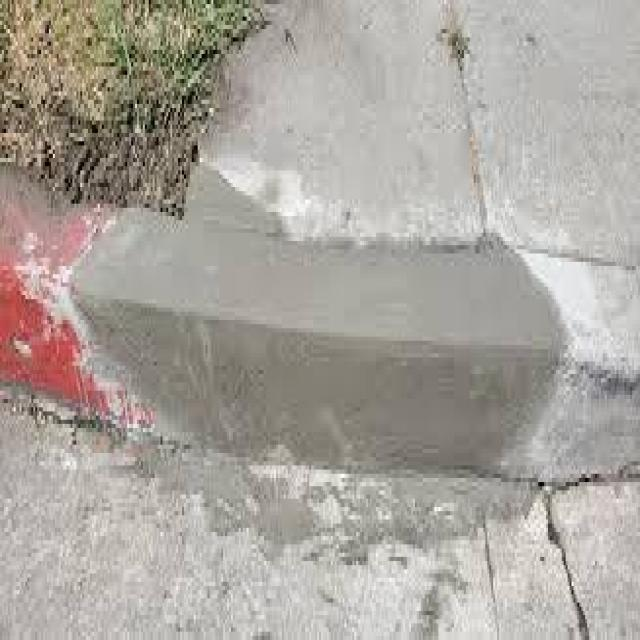curb: (68, 203, 568, 488)
